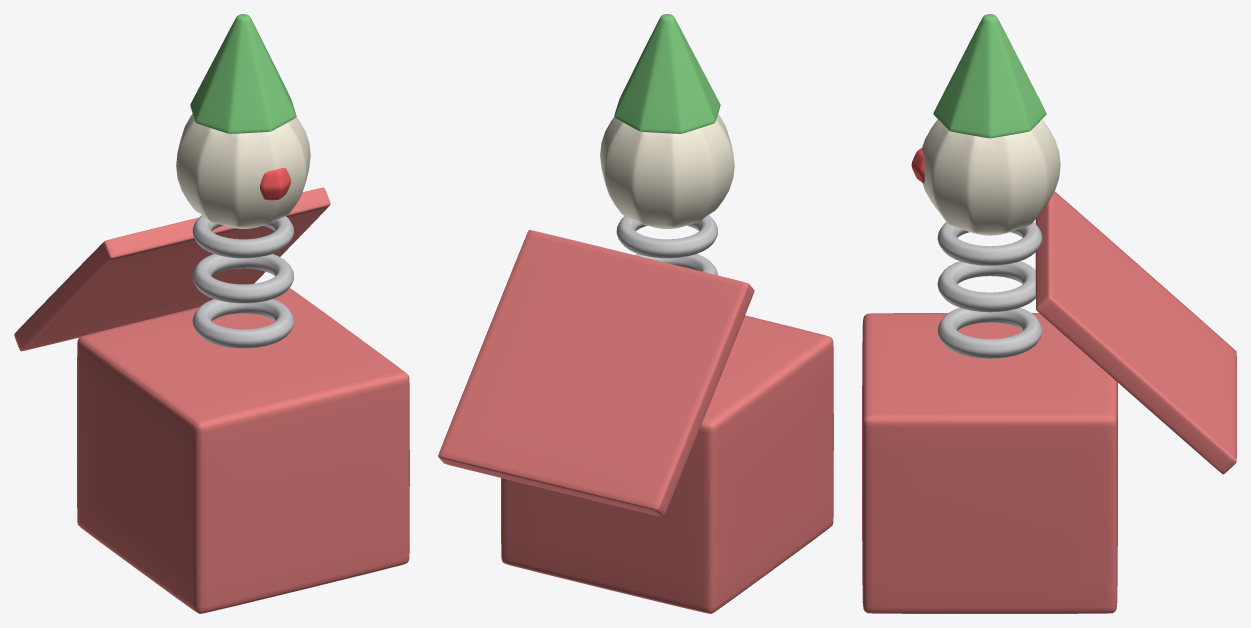
File: jack_in_box.glb
3 renders of one model, left to right at view 1: azimuth 30°, elevation 25°; view 2: azimuth 150°, elevation 25°; view 3: azimuth 270°, elevation 25°, orthographic. The views are drawn at different scales.
Visible parts, largest first — view 1: jack_in_box; view 2: jack_in_box; view 3: jack_in_box.
Part boxes in pixels (x1,y1,x2,y2): jack_in_box: [14, 14, 409, 613]; jack_in_box: [438, 14, 833, 613]; jack_in_box: [862, 14, 1236, 613].
Bounding box in the file's own units: 0.3599 × 0.8249 × 0.5124.
